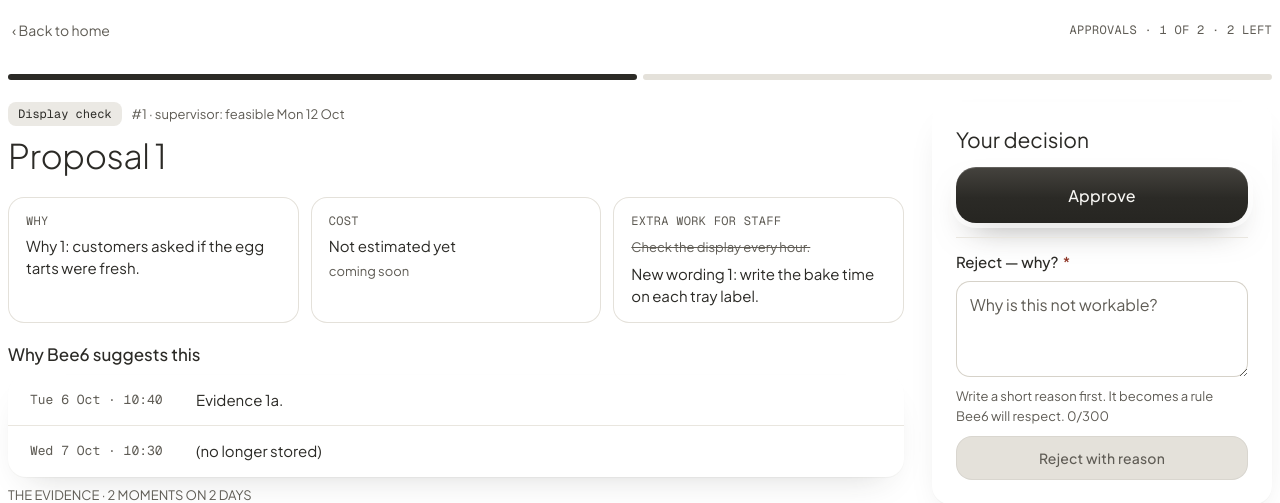
Test: ApprovalsReview — approve › approve #1 then #2: both become SOP versions, and the summary lists version 2 and version 3 with their own dates
Expected: the heading "Proposal 1" is shown, top-left (8, 134), bottom-right (166, 177)
Click the button "Approve" at (1102, 195), box top-left (956, 167), bottom-right (1248, 223)
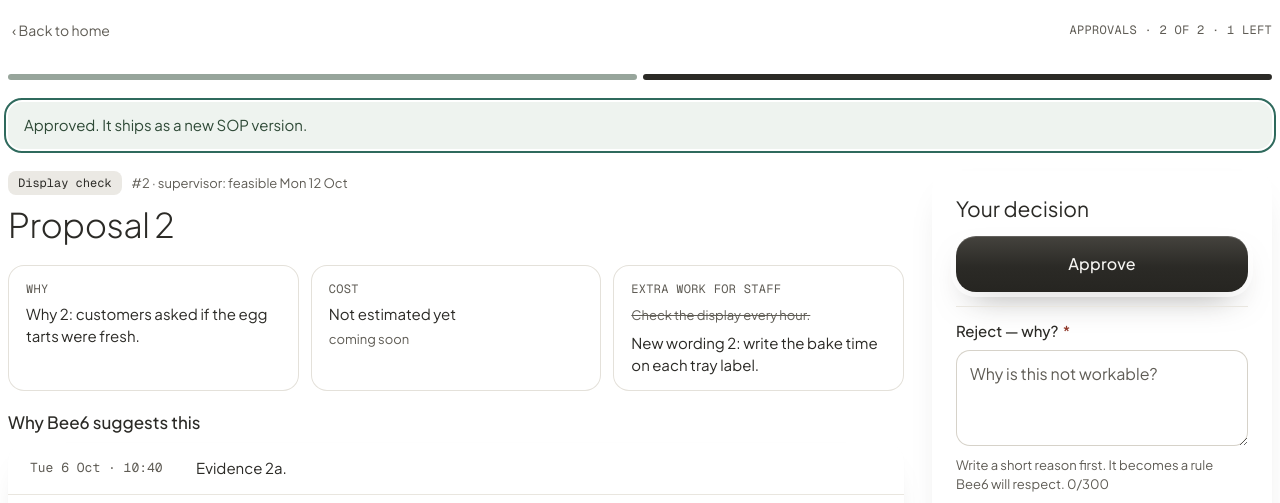
Result: the heading "Proposal 2" is shown at top-left (8, 202), bottom-right (174, 246)
Click the button "Approve" at (1102, 264), box top-left (956, 236), bottom-right (1248, 292)
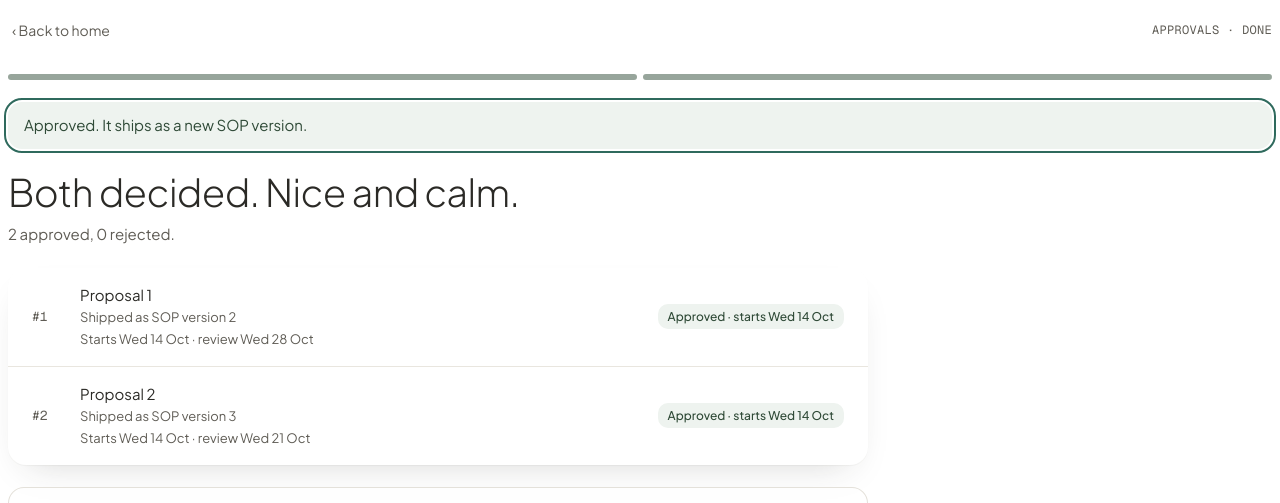
Result: the heading "Both decided. Nice and calm." is shown at top-left (8, 168), bottom-right (519, 214)
Result: the text "Shipped as SOP version 2" is shown at top-left (80, 308), bottom-right (236, 324)
Result: the text "Shipped as SOP version 3" is shown at top-left (80, 408), bottom-right (236, 424)
